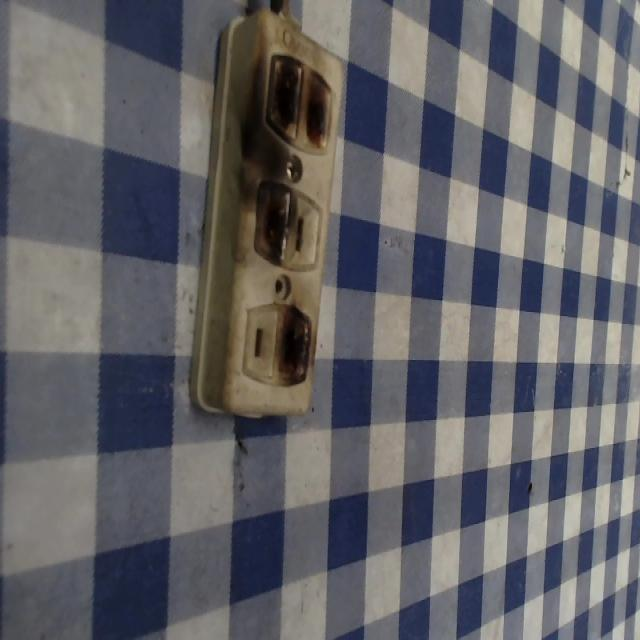-: (261, 48, 335, 152), (250, 176, 296, 261), (277, 300, 314, 387)
